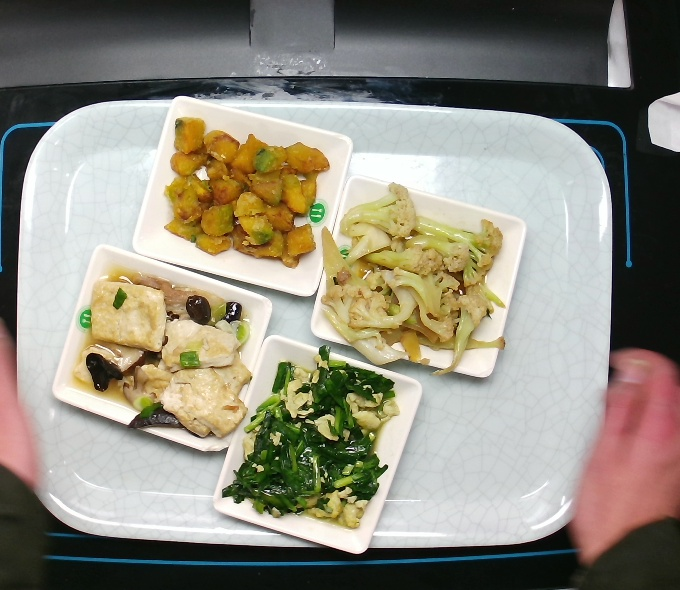wcq-DanHuangNanGua: (160, 113, 335, 272)
wcq-JiaChangDouFu: (62, 246, 262, 455)
wcq-JiuCaiJiDan: (225, 343, 402, 539)
wcq-QiuCai: (313, 183, 512, 383)
